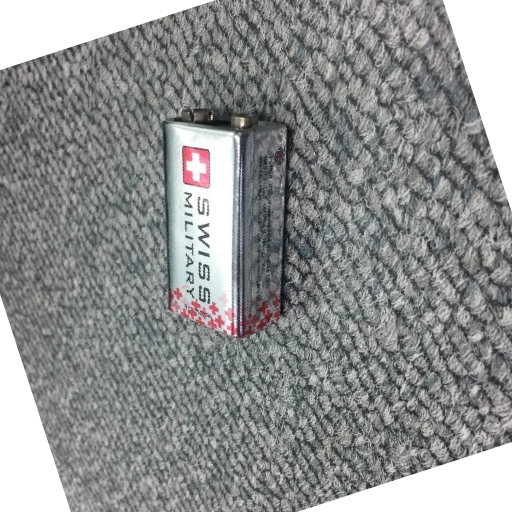Battery_3: (135, 83, 306, 354)
